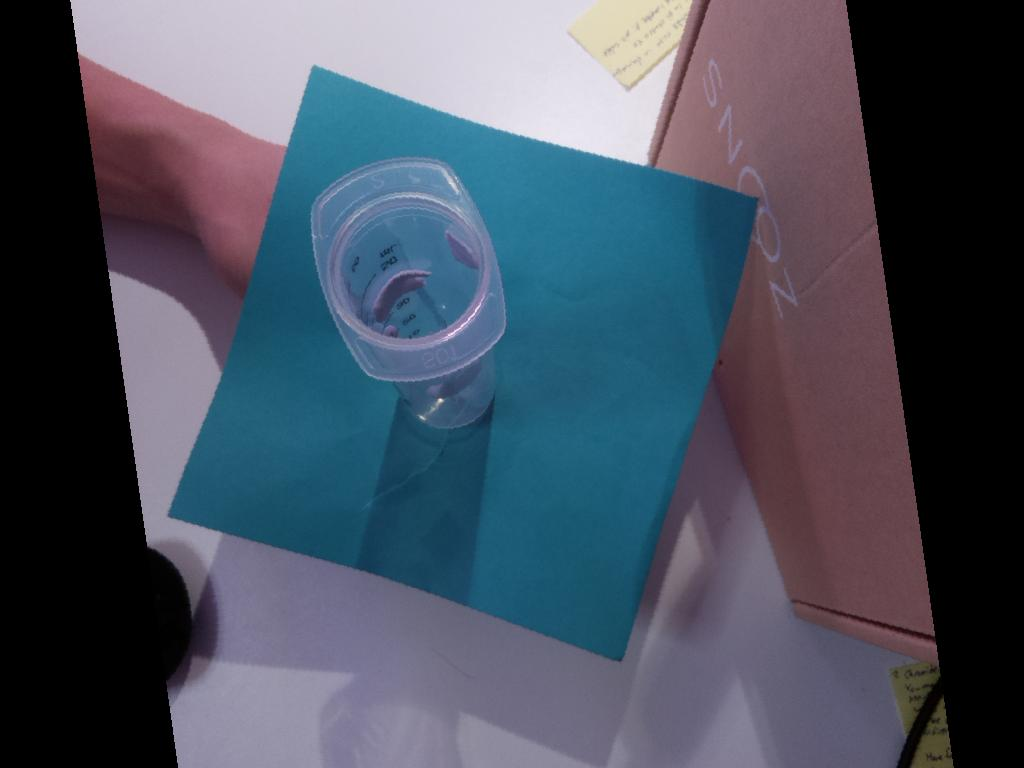dirty: (309, 156, 508, 383)
